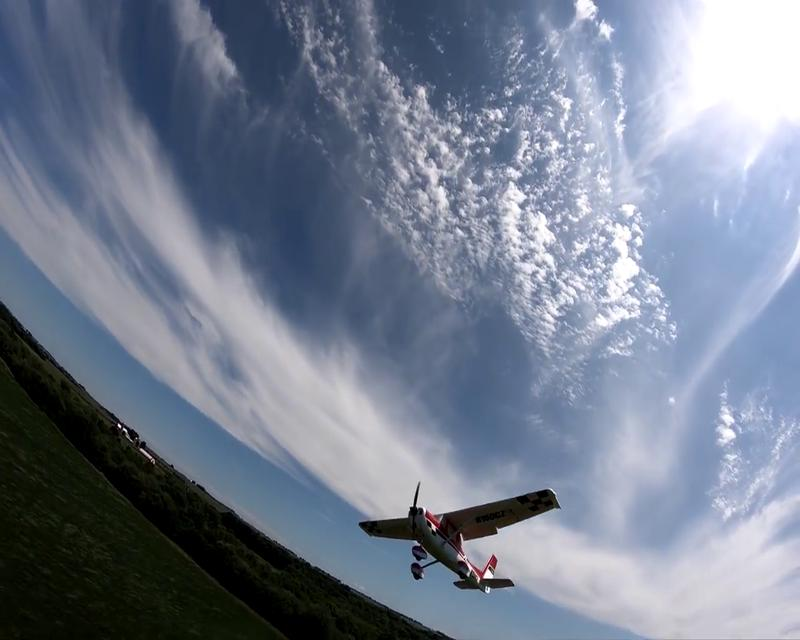UAV: (357, 480, 561, 595)
